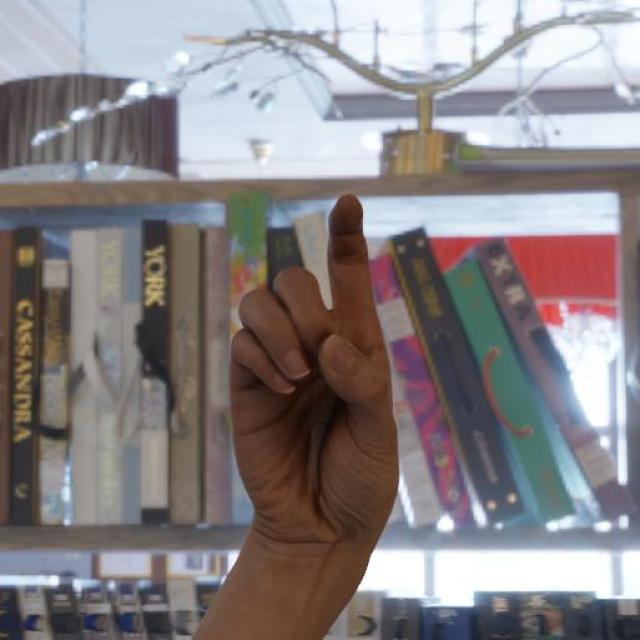X: (200, 178, 433, 628)
